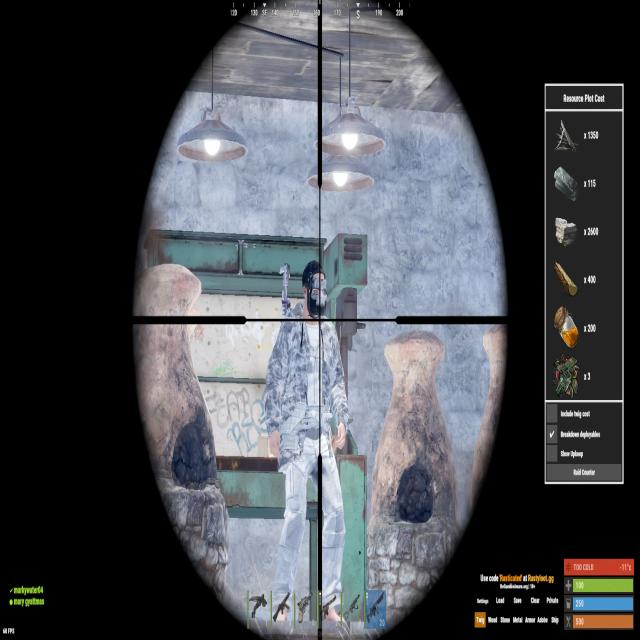Player: (262, 250, 348, 634)
